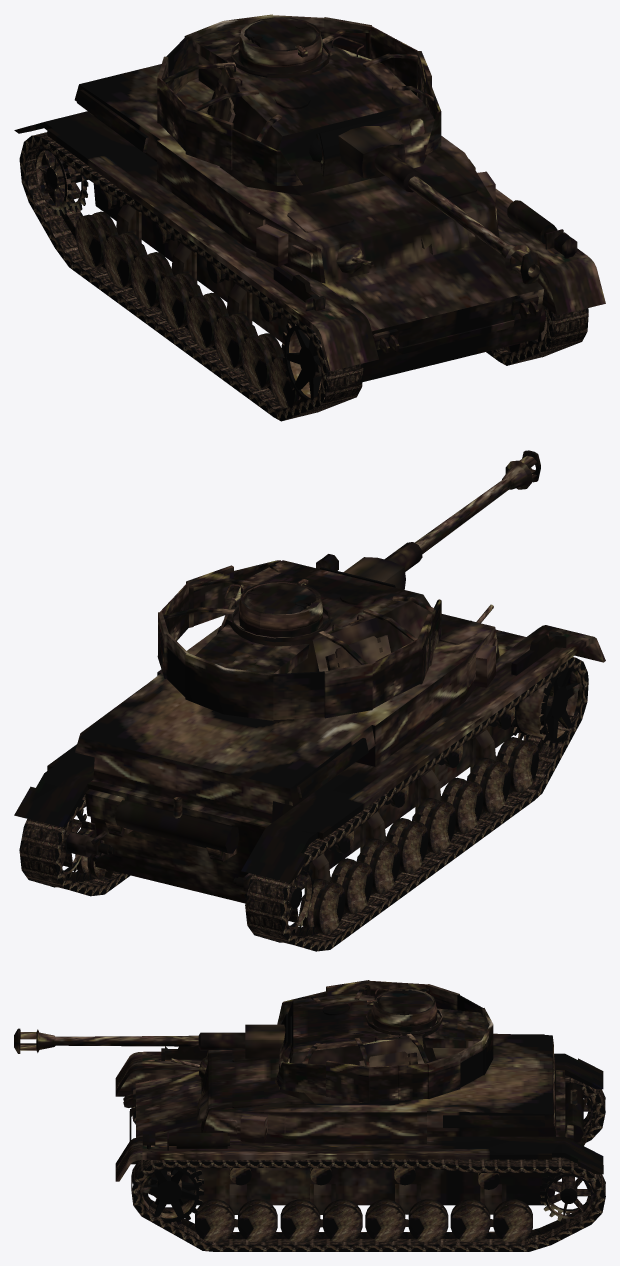
The model's file is Tank.fbx.
3 renders of one model, top to bottom at view 1: azimuth 30°, elevation 25°; view 2: azimuth 150°, elevation 25°; view 3: azimuth 270°, elevation 25°, orthographic. The views are drawn at different scales.
Visible parts, largest first — view 1: Body, Turret, Wheels, Treads, Barrel; view 2: Body, Turret, Wheels, Treads, Barrel; view 3: Body, Turret, Wheels, Treads, Barrel.
Boxes of the visible parts, x1,y1,x2,y2 form: Body: (14,64,605,382); Turret: (157,14,441,195); Wheels: (34,146,550,407); Treads: (19,132,588,421); Barrel: (338,126,540,284); Body: (14,554,605,925); Turret: (157,560,441,720); Wheels: (60,667,582,934); Treads: (19,657,588,951); Barrel: (343,450,540,589); Body: (115,1033,603,1227); Turret: (274,980,493,1103); Wheels: (140,1093,596,1241); Treads: (131,1075,605,1251); Barrel: (14,1024,285,1058).
Size of the model in its own units: 1016 by 2452 by 926.
